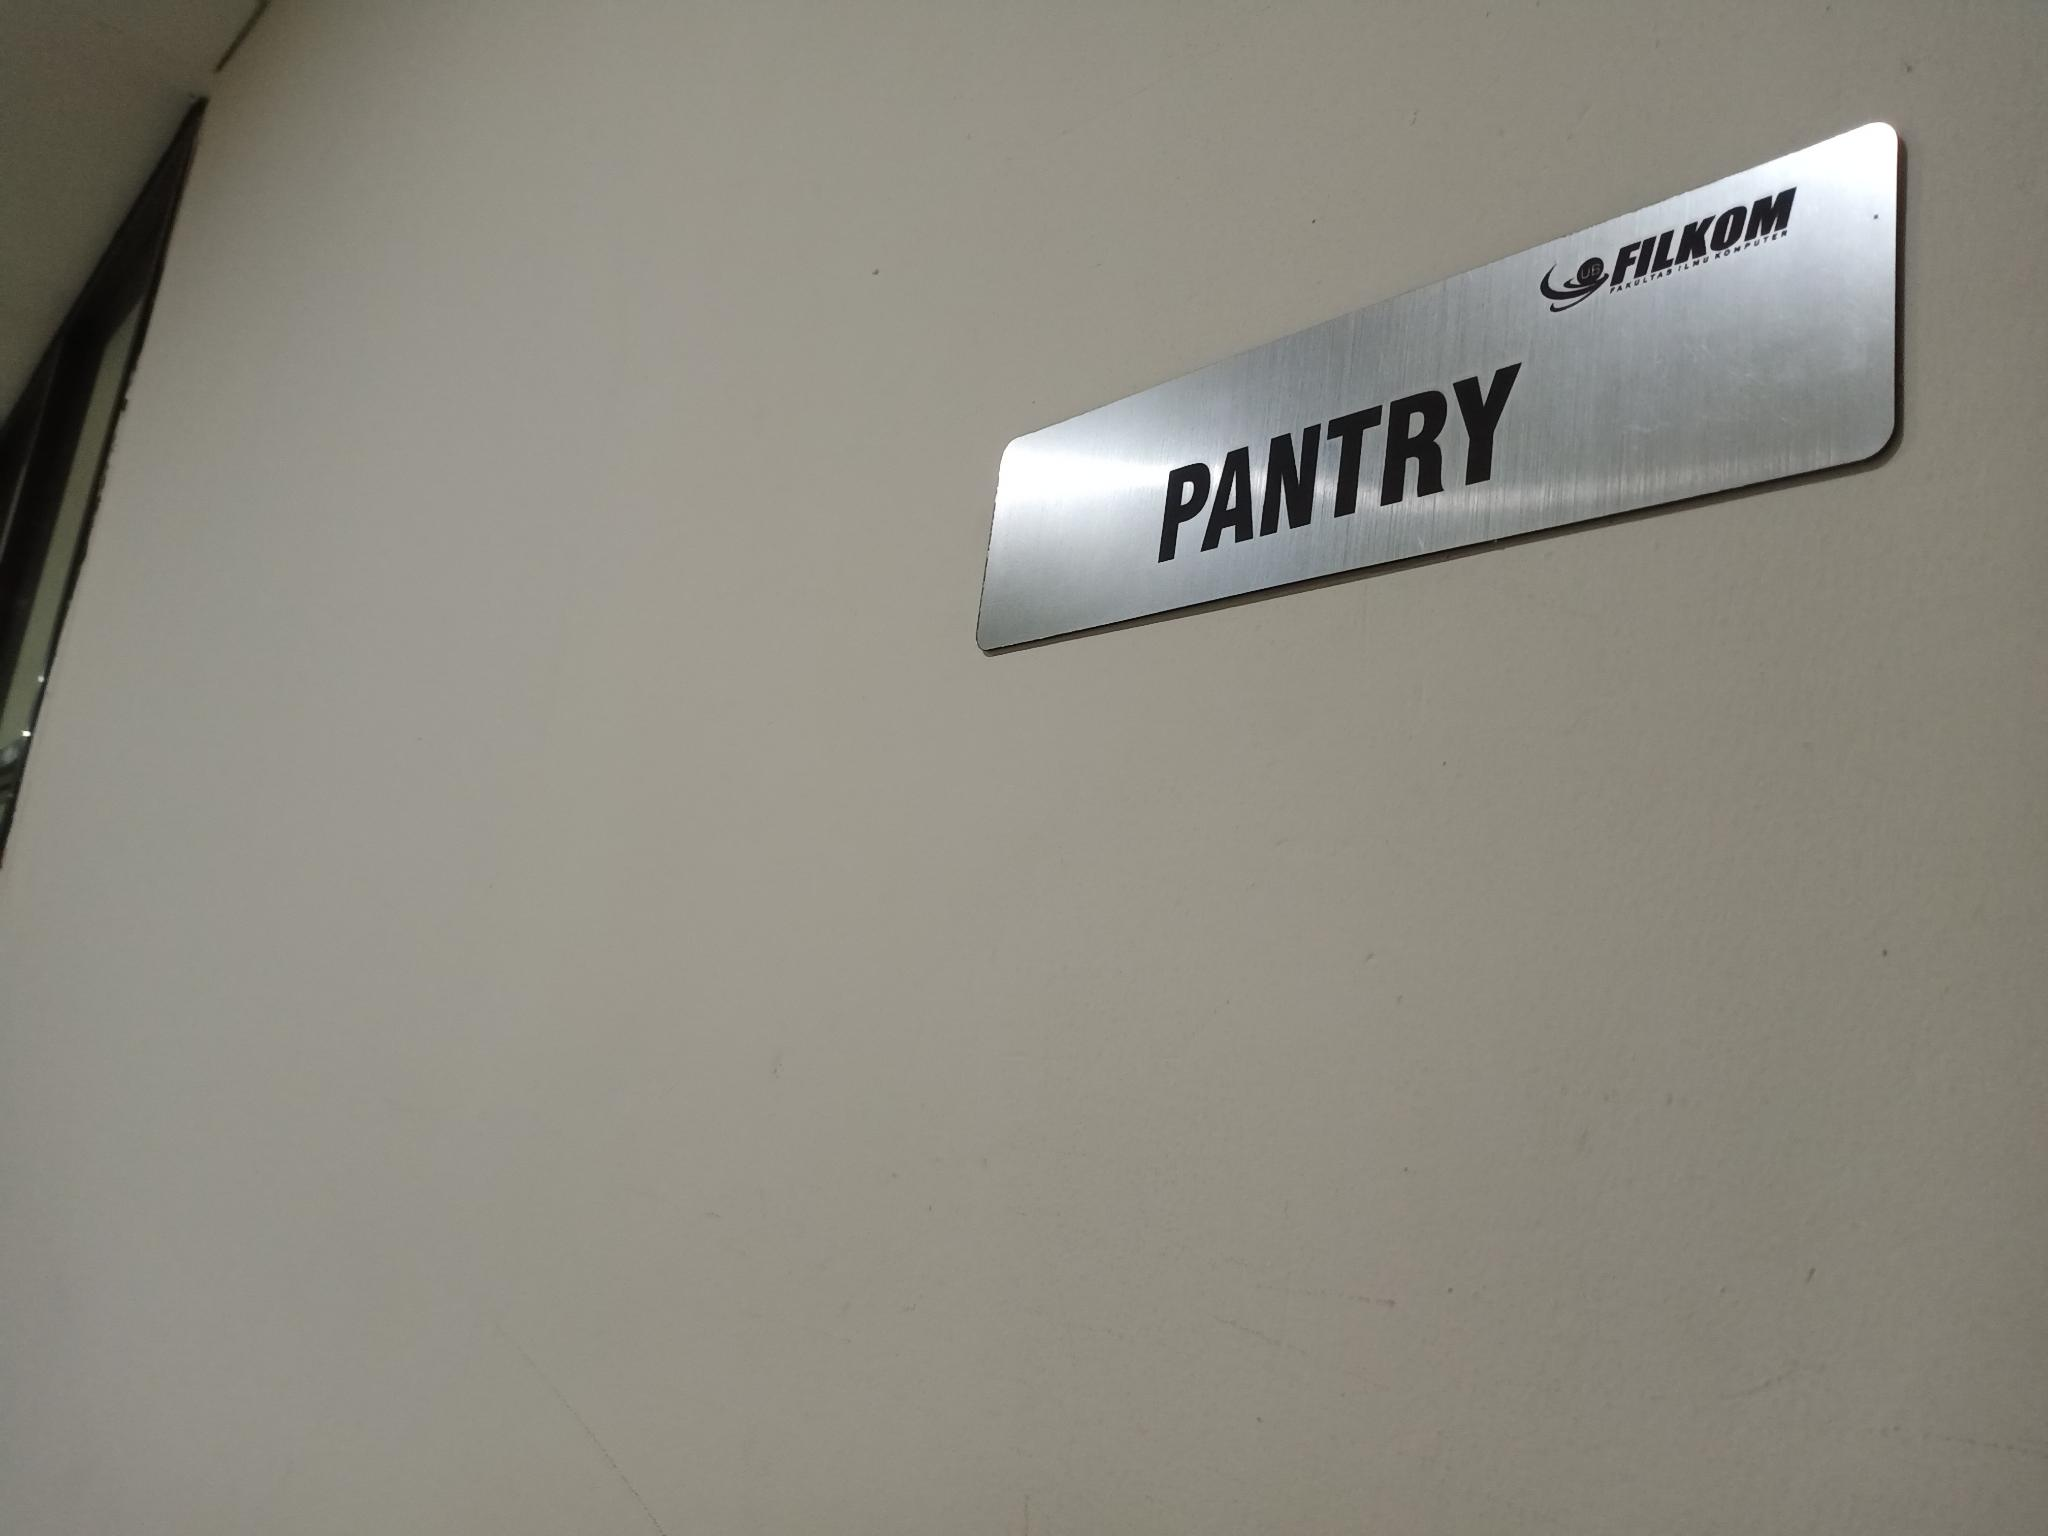plate: (977, 118, 1901, 652)
